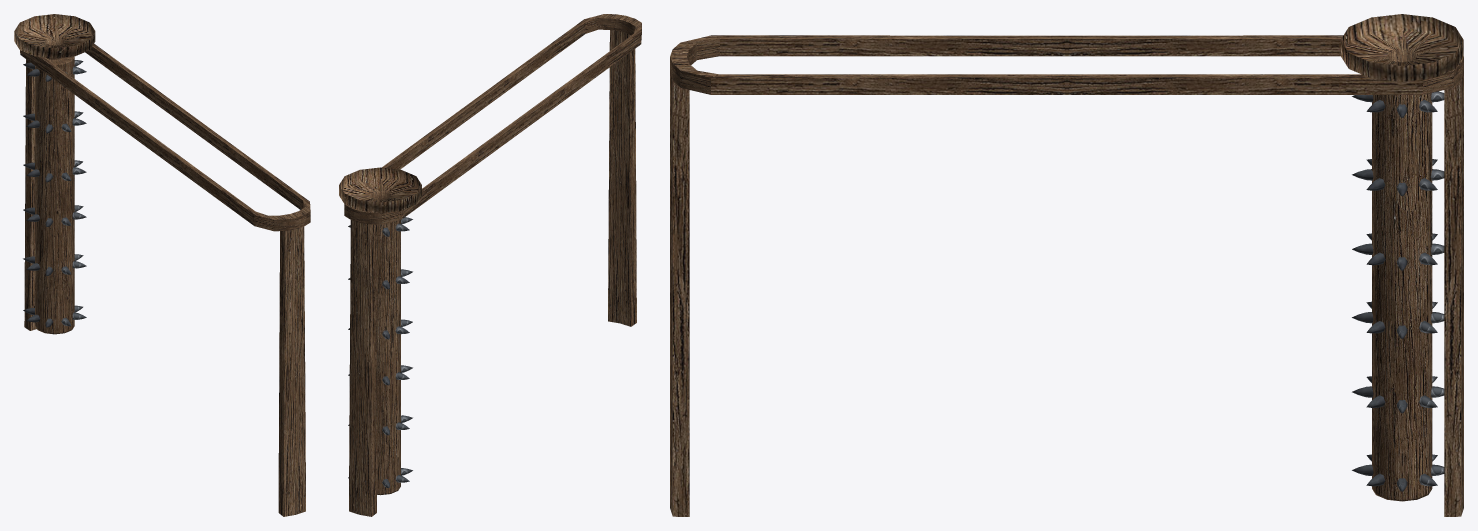
Rendered from Obstacle3.FBX.
3 renders of one model, left to right at view 1: azimuth 30°, elevation 25°; view 2: azimuth 150°, elevation 25°; view 3: azimuth 270°, elevation 25°, orthographic. The views are drawn at different scales.
Visible parts, largest first — view 1: polySurface065, polySurface066; view 2: polySurface065, polySurface066; view 3: polySurface065, polySurface066.
Part boxes in pixels (x1,y1,x2,y2): polySurface065: [20, 44, 310, 516]; polySurface066: [14, 14, 95, 334]; polySurface065: [344, 14, 641, 516]; polySurface066: [339, 167, 421, 495]; polySurface065: [670, 35, 1463, 516]; polySurface066: [1340, 14, 1463, 501].
Bounding box in the file's own units: 140 × 587 × 903.
1 material, 1 textured.
